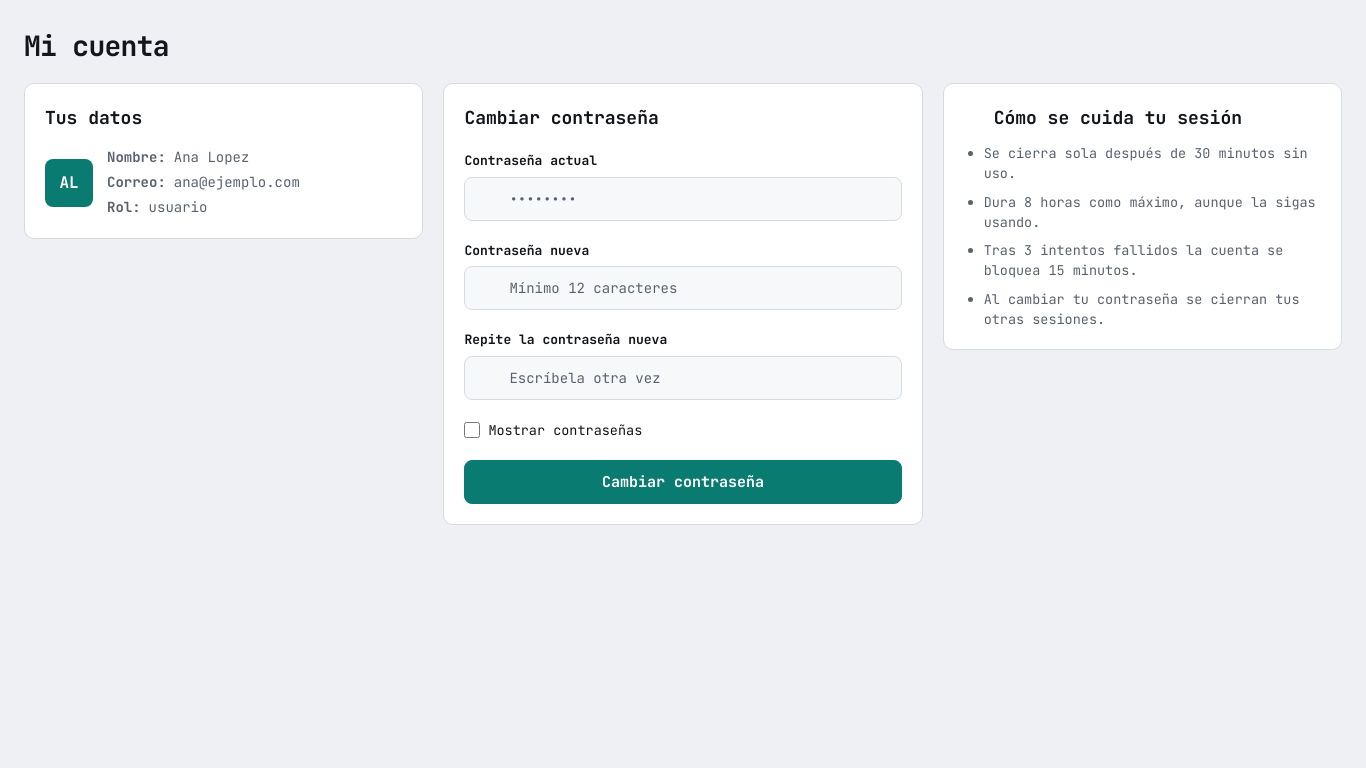
Test: PaginaMiCuenta › no envía si  / una-clave-nueva-1 / una-clave-nueva-1
Type "una-clave-nueva-1" into the password field labelled "Contraseña nueva".
click(683, 288); type("una-clave-nueva-1")  # box 464,266 -> 902,310
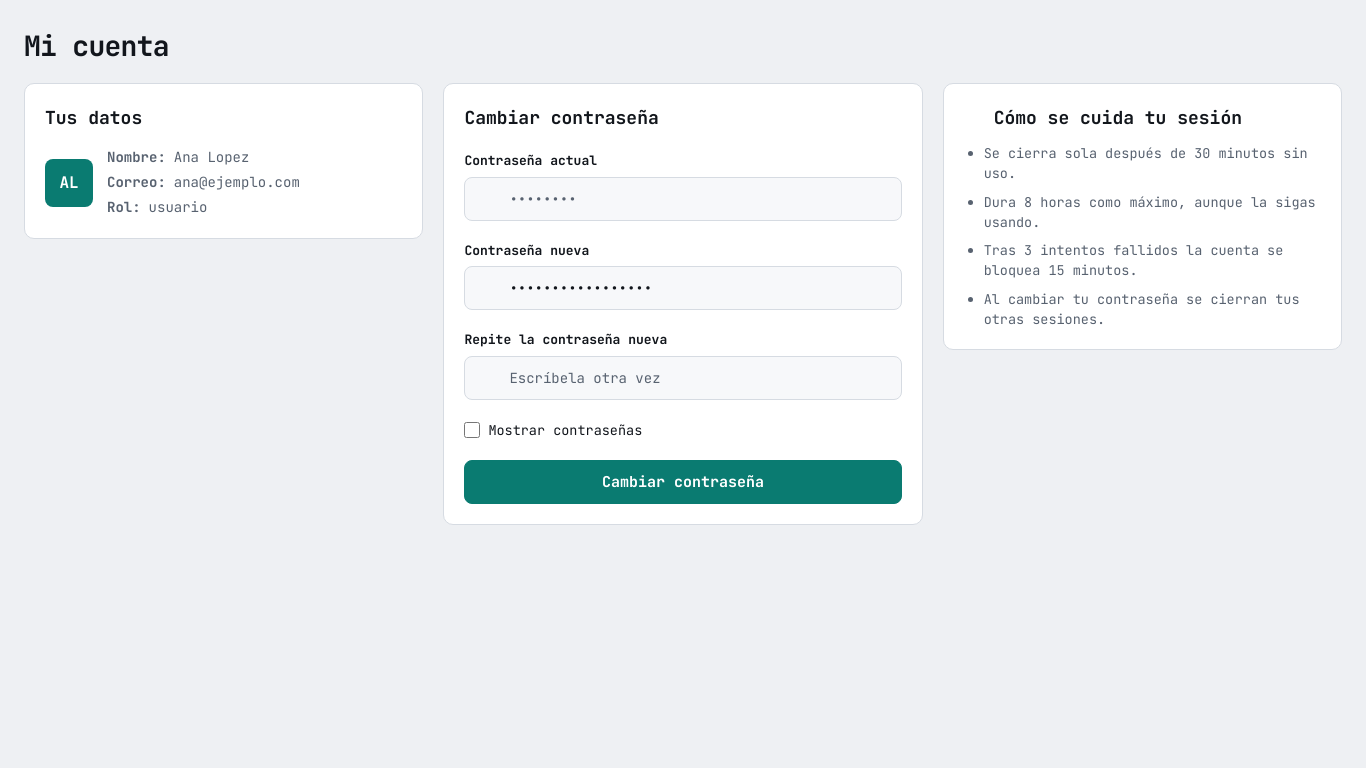
Type "una-clave-nueva-1" into the password field labelled "Repite la contraseña nueva".
click(683, 378); type("una-clave-nueva-1")  # box 464,356 -> 902,400
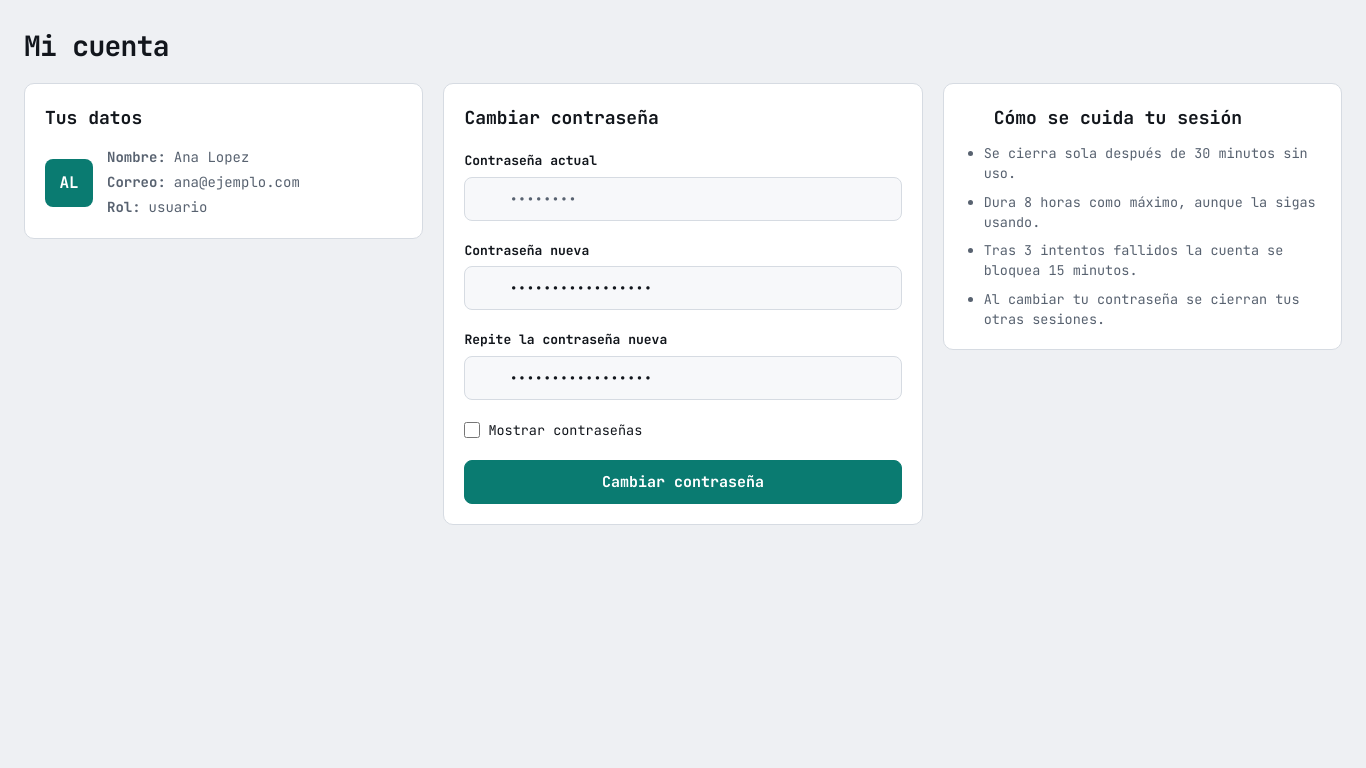
Click the button "Cambiar contraseña".
click(683, 482)  # box 464,460 -> 902,504
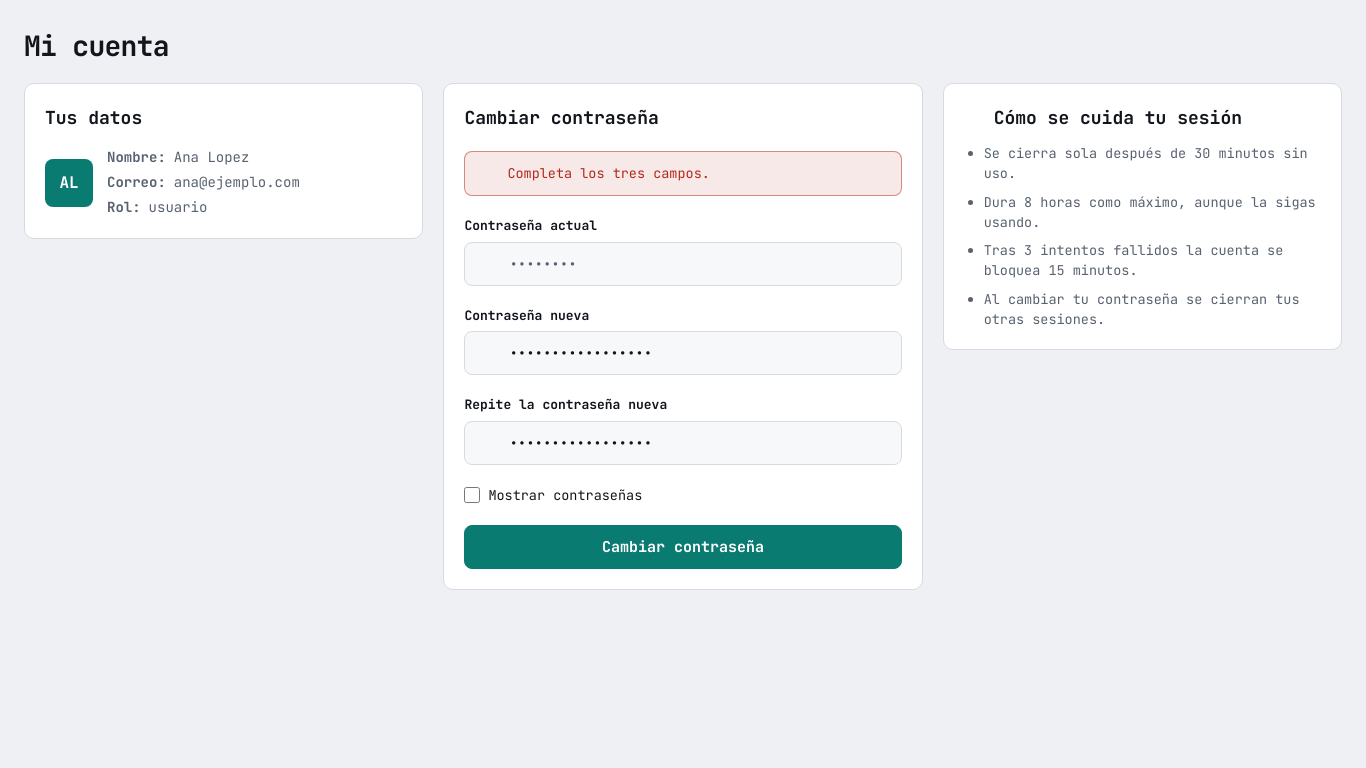
Expected: the message shows "Completa los tres campos", 507,164 -> 710,182
